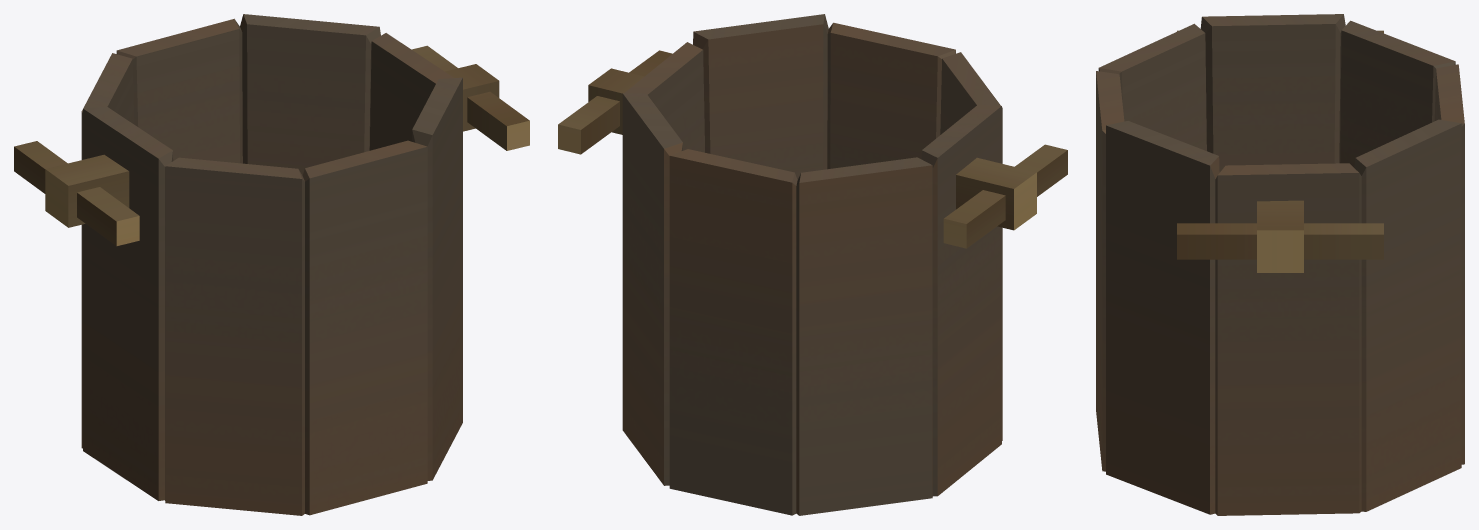
Rendered from Bucket_1A.fbx.
The picture shows the model from 3 angles, left to right: view 1: azimuth 30°, elevation 25°; view 2: azimuth 150°, elevation 25°; view 3: azimuth 270°, elevation 25°; orthographic projection. The views are drawn at different scales.
Parts seen in each view (by area): view 1: polySurface9705; view 2: polySurface9705; view 3: polySurface9705.
Part boxes in pixels (box(x1,y1,x2,y2)): polySurface9705: box(14, 14, 529, 515); polySurface9705: box(558, 14, 1067, 515); polySurface9705: box(1096, 14, 1464, 515).
Bounding box in the file's own units: 134 × 103 × 98.56.
